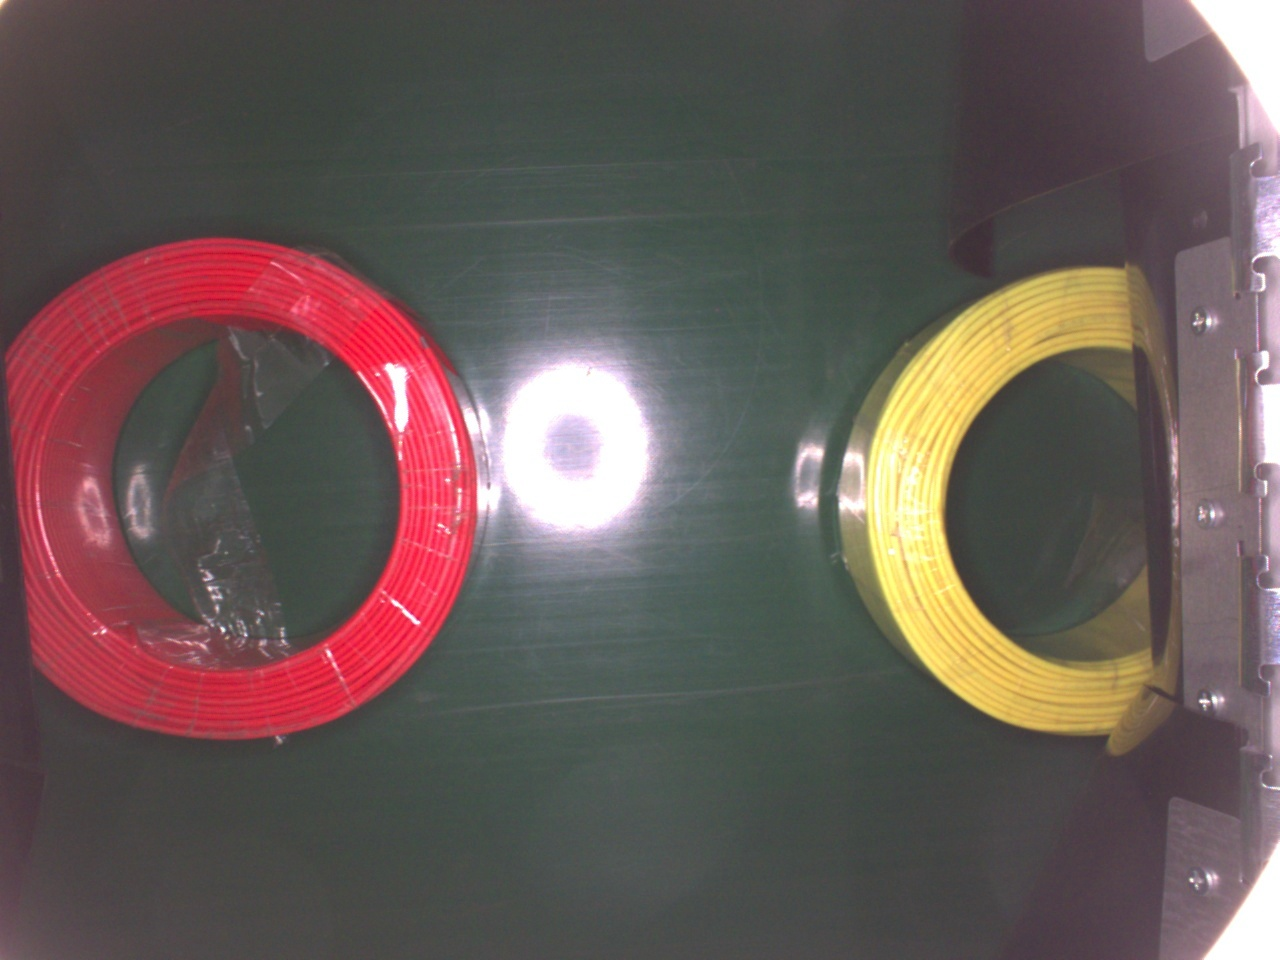red: (2, 233, 489, 744)
yellow: (837, 259, 1155, 742)
